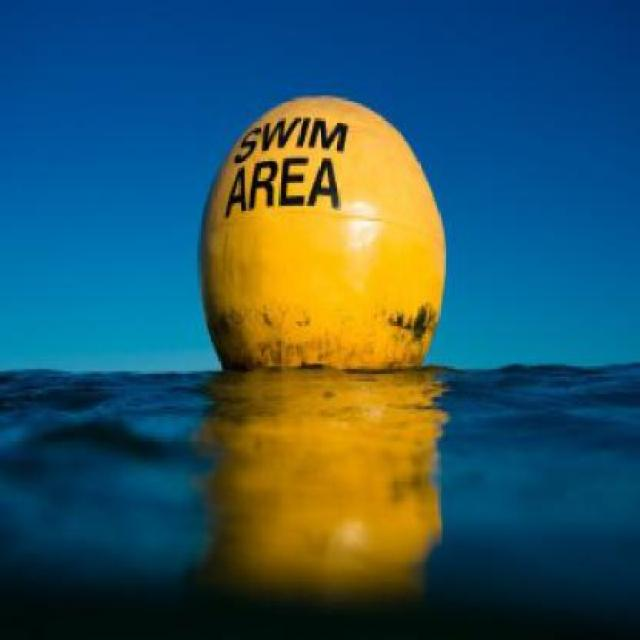a: (187, 81, 466, 398)
